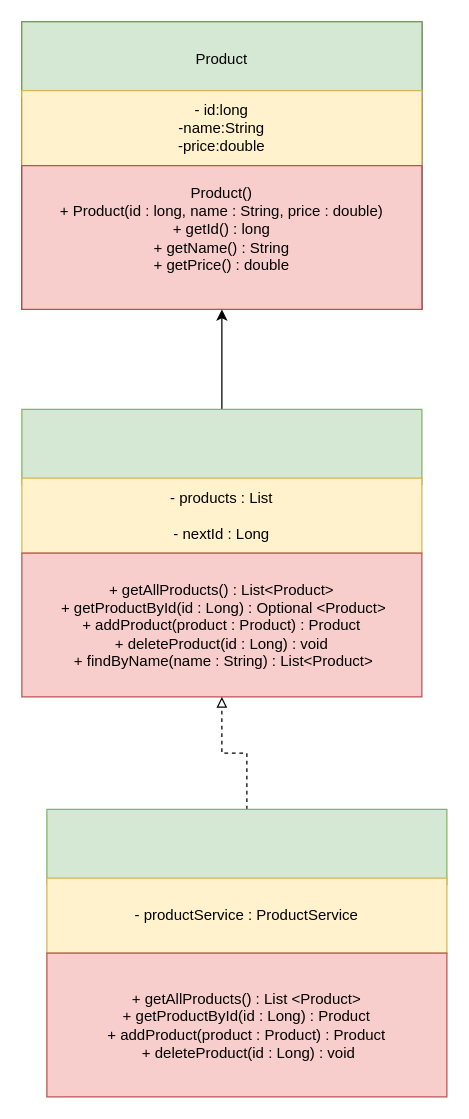
Image size: 469x1119. Some labels were removed from this diagram. Each missing label, with the centre of its shape:
ProductController: the point at 246,846
ProductService: the point at 221,446
